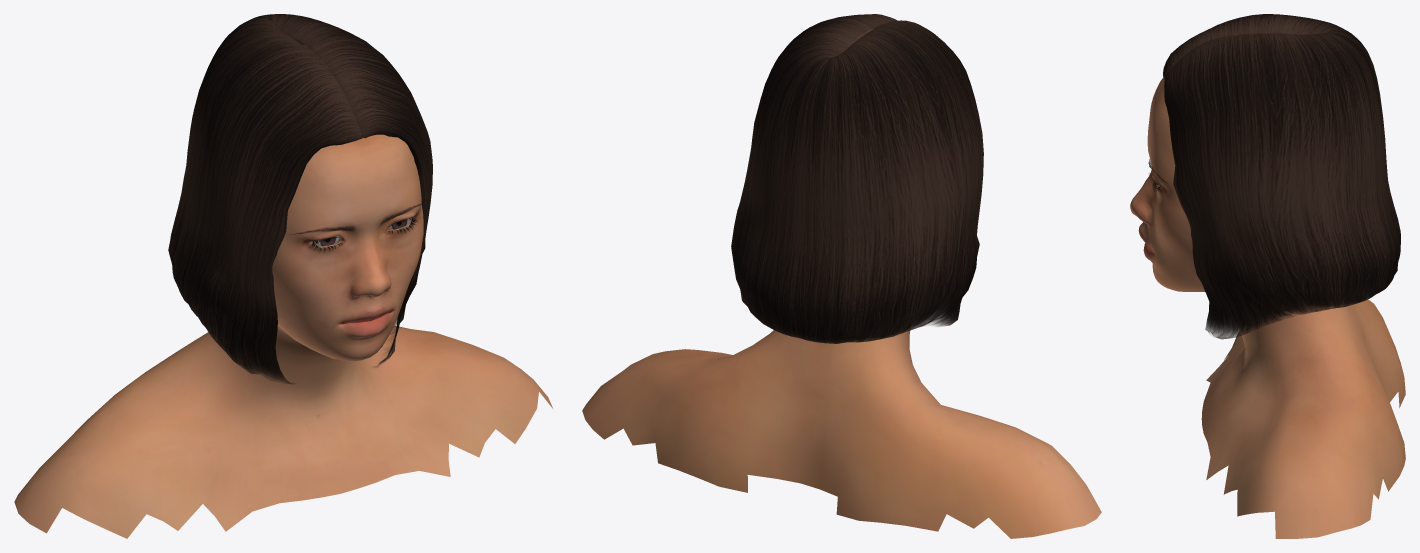
The model's file is head.glb.
3 renders of one model, left to right at view 1: azimuth 30°, elevation 25°; view 2: azimuth 150°, elevation 25°; view 3: azimuth 270°, elevation 25°, orthographic. The views are drawn at different scales.
Visible parts, largest first — view 1: neck, hair, head; view 2: hair, neck; view 3: hair, neck, head.
Part boxes in pixels (<box>): neck: <box>14,326,553,538</box>; hair: <box>168,14,432,384</box>; head: <box>272,45,423,361</box>; hair: <box>731,14,983,343</box>; neck: <box>582,328,1101,538</box>; hair: <box>1163,14,1400,339</box>; neck: <box>1201,299,1405,538</box>; head: <box>1130,77,1320,316</box>.
Bounding box in the file's own units: 0.399 × 0.324 × 0.2012.
Materials: 7 (7 with a texture image).
